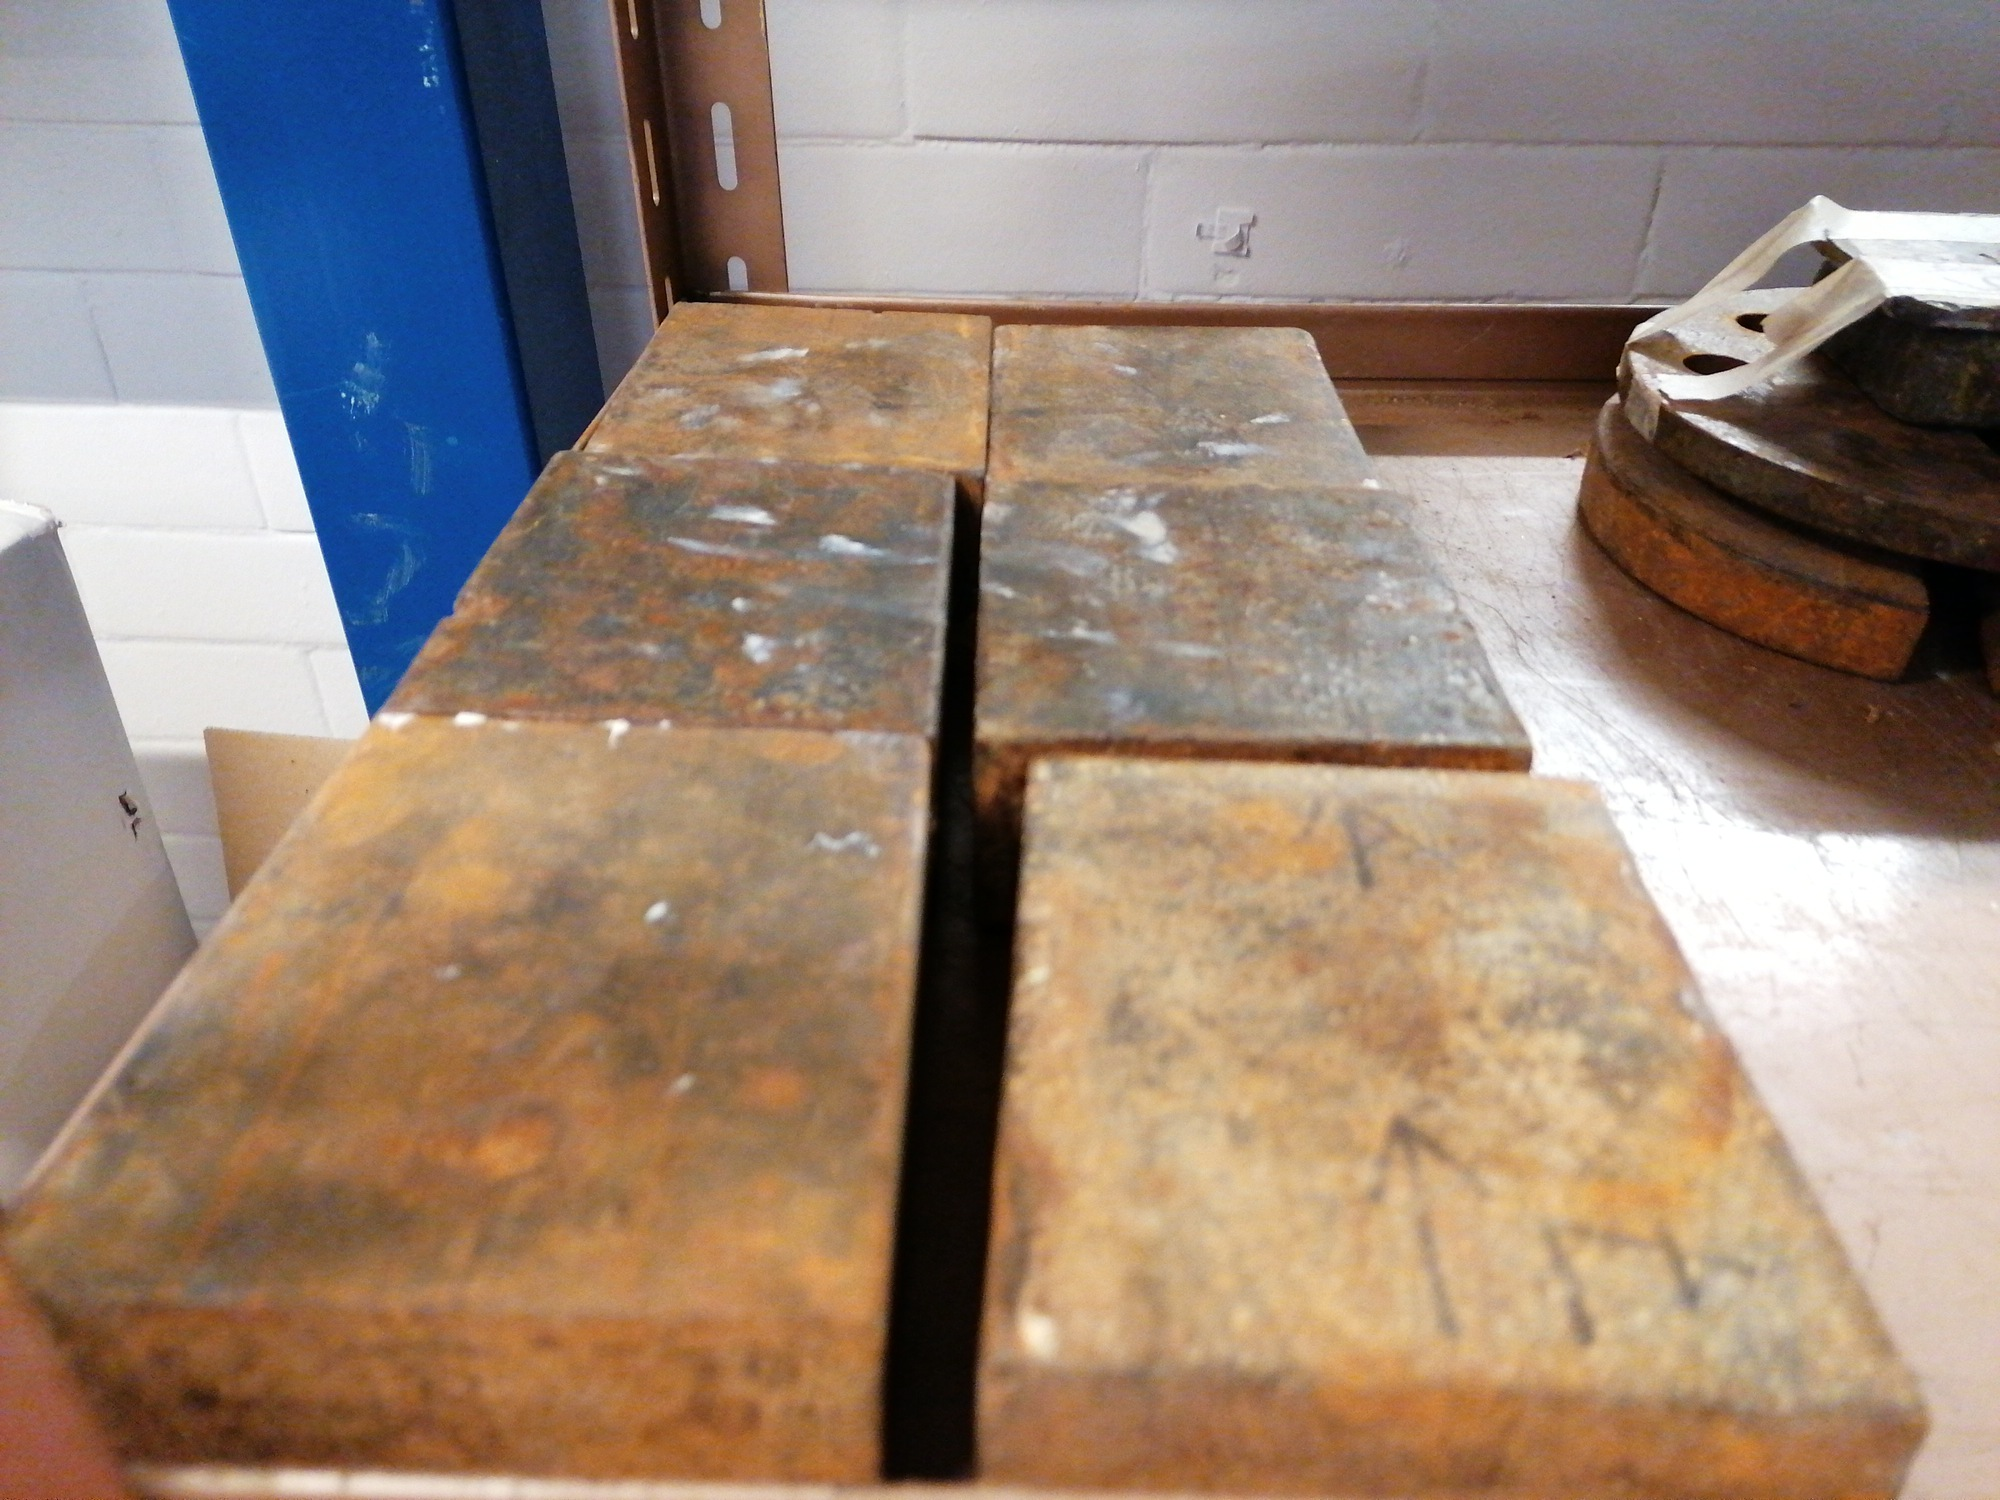flange: (1573, 386, 1995, 682), (1613, 280, 1997, 574)
lead-block: (970, 737, 1929, 1495), (5, 714, 939, 1487), (964, 477, 1532, 862), (362, 447, 957, 734), (586, 295, 995, 503), (975, 325, 1383, 504)
